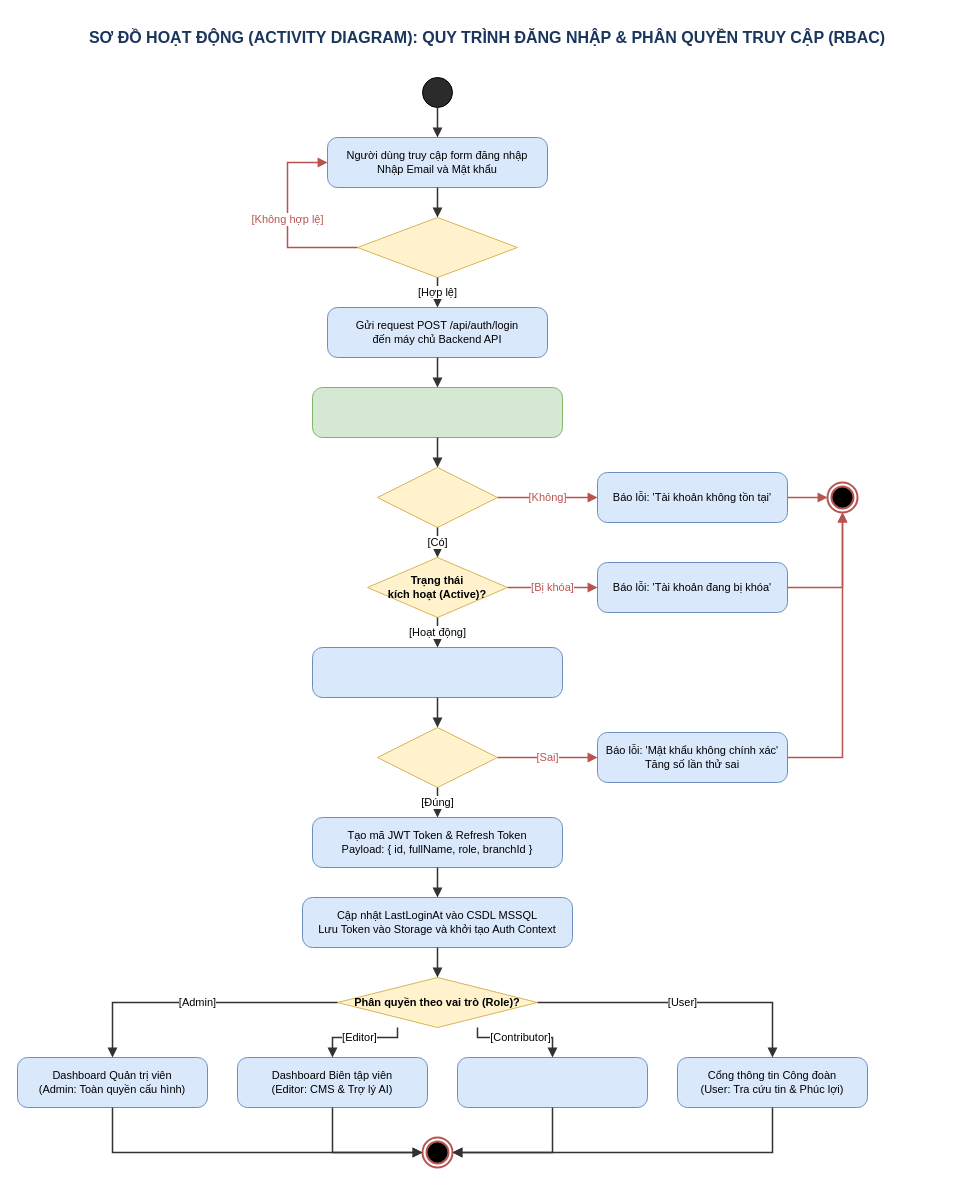
Image size: 955x1185. Some labels were removed from this diagram. The shapes that lost their labels are listed below. From the top down, each one's box as (x1, y1, x2, y2) in pixels, then its label:
(356, 216, 518, 278): Định dạng hợp lệ? (Email & Độ dài MK)
(312, 386, 562, 438): Truy vấn CSDL MSSQL tìm tài khoản (SELECT * FROM USERS WHERE Email = @email)
(376, 466, 498, 528): Tài khoản tồn tại?
(312, 646, 562, 698): Đối soát mật khẩu đã mã hóa bcrypt.compare(password, PasswordHash)
(376, 726, 498, 788): Mật khẩu chính xác?
(456, 1056, 648, 1108): Dashboard Tổ Công đoàn (Contributor: Báo cáo & Thi đua)
